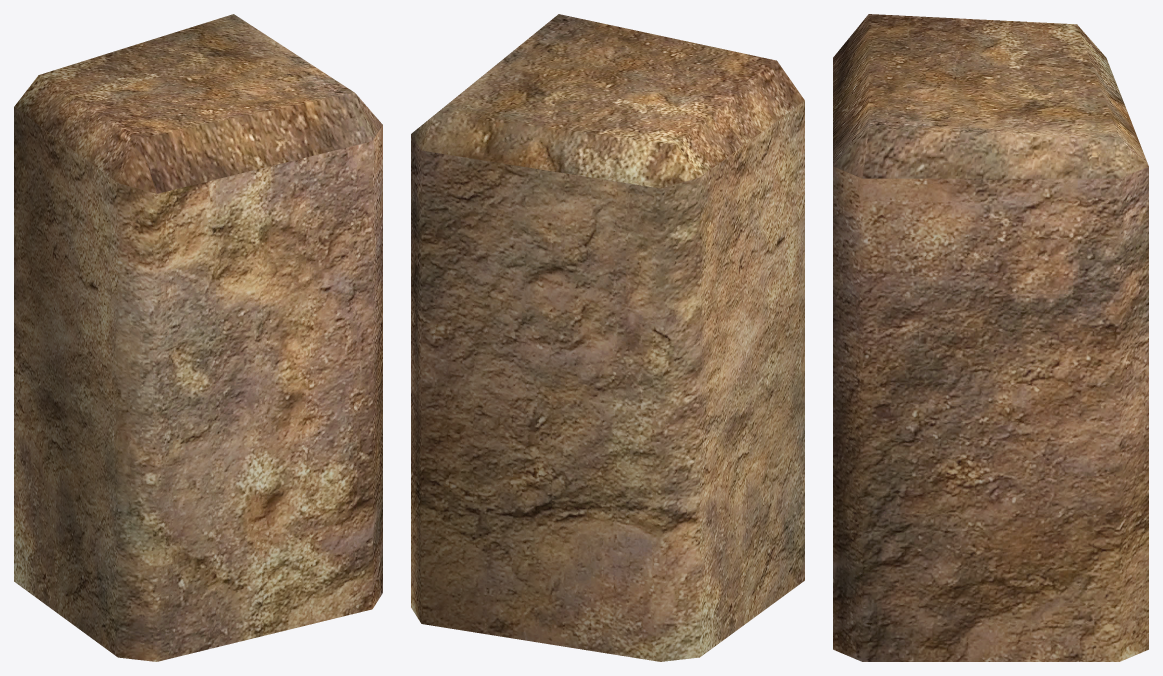
Rendered from stone_cubic_weathered_02.dae.
3 renders of one model, left to right at view 1: azimuth 30°, elevation 25°; view 2: azimuth 150°, elevation 25°; view 3: azimuth 270°, elevation 25°, orthographic. The views are drawn at different scales.
Visible parts, largest first — view 1: Cube_006; view 2: Cube_006; view 3: Cube_006.
Part boxes in pixels (x1=…): Cube_006: x1=14, y1=14, x2=382, y2=661; Cube_006: x1=411, y1=14, x2=804, y2=661; Cube_006: x1=833, y1=14, x2=1148, y2=661.
Bounding box in the file's own units: 5.76 × 5.76 × 10.59.
